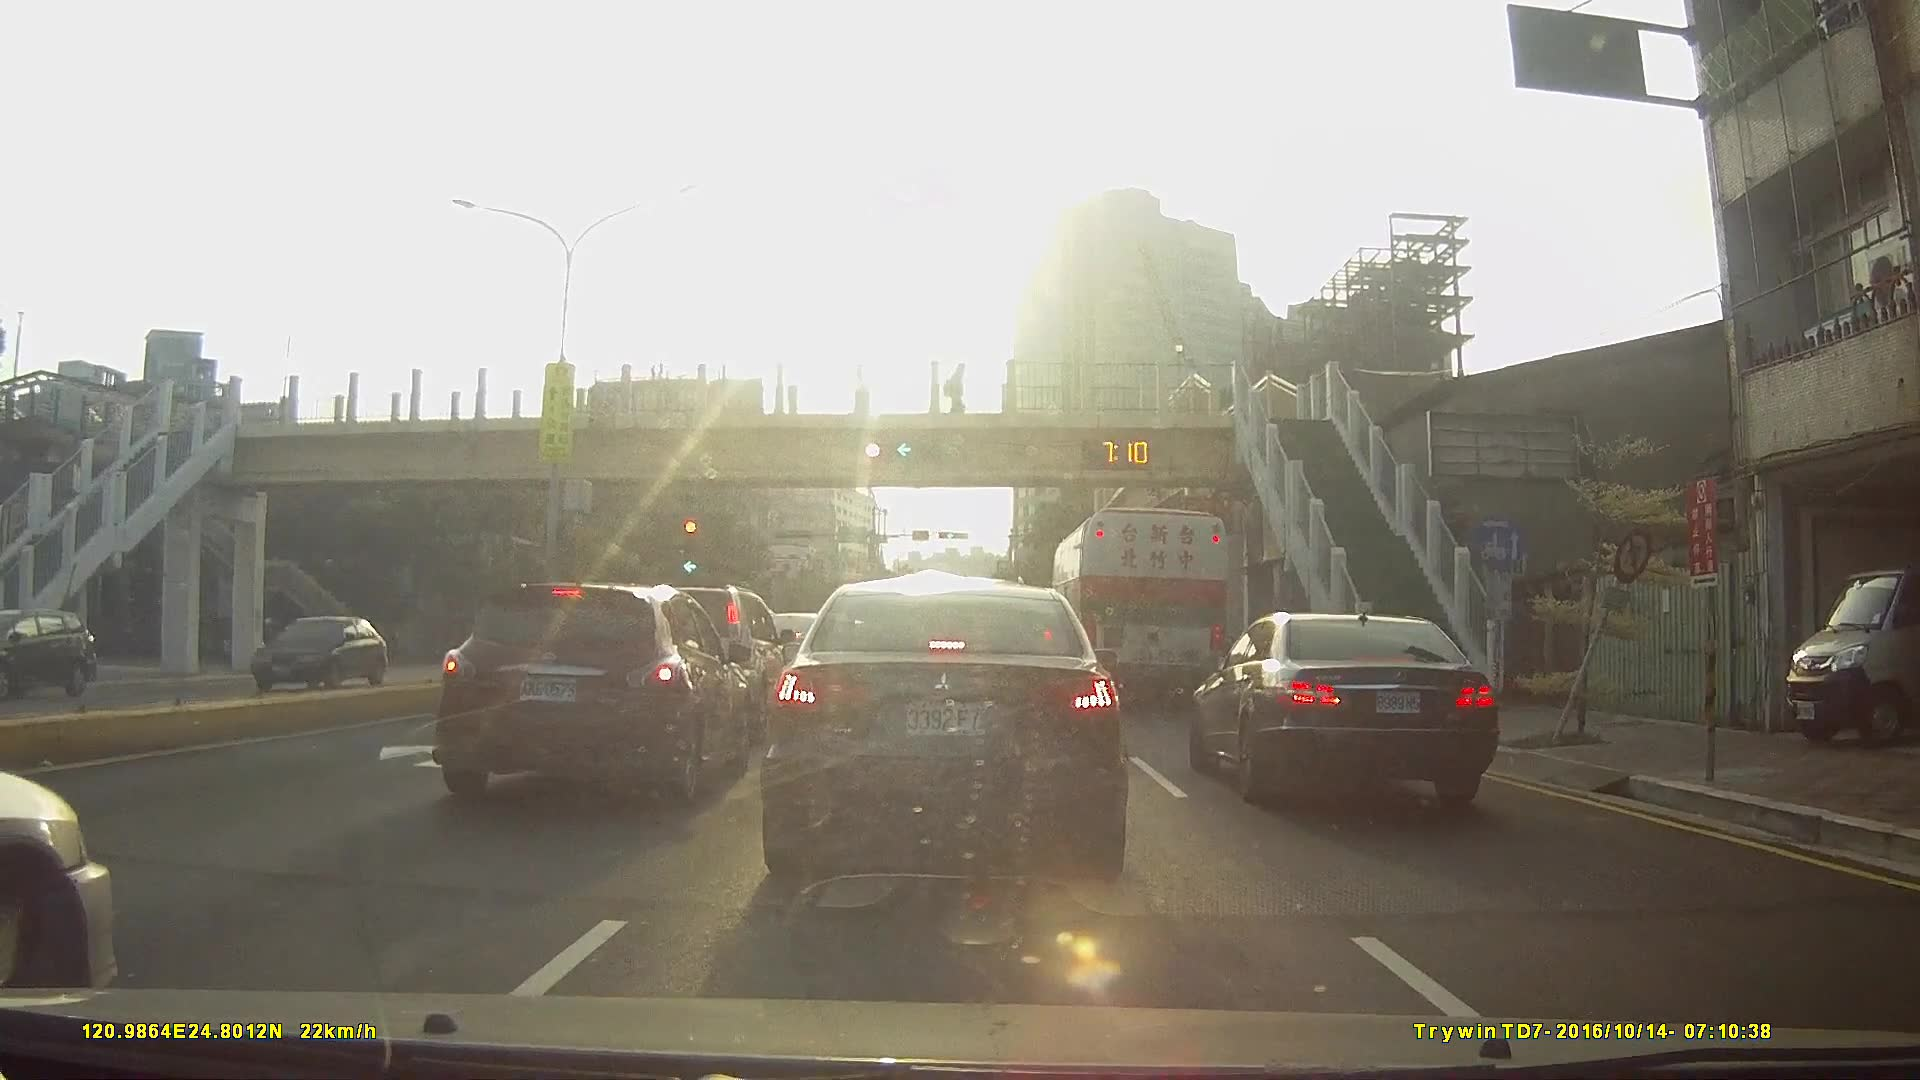pedestrian: (946, 364, 969, 412)
vehicle: (753, 574, 1133, 883), (428, 579, 754, 808), (1183, 607, 1495, 812), (1050, 504, 1230, 702), (239, 611, 380, 690), (0, 604, 96, 698)
